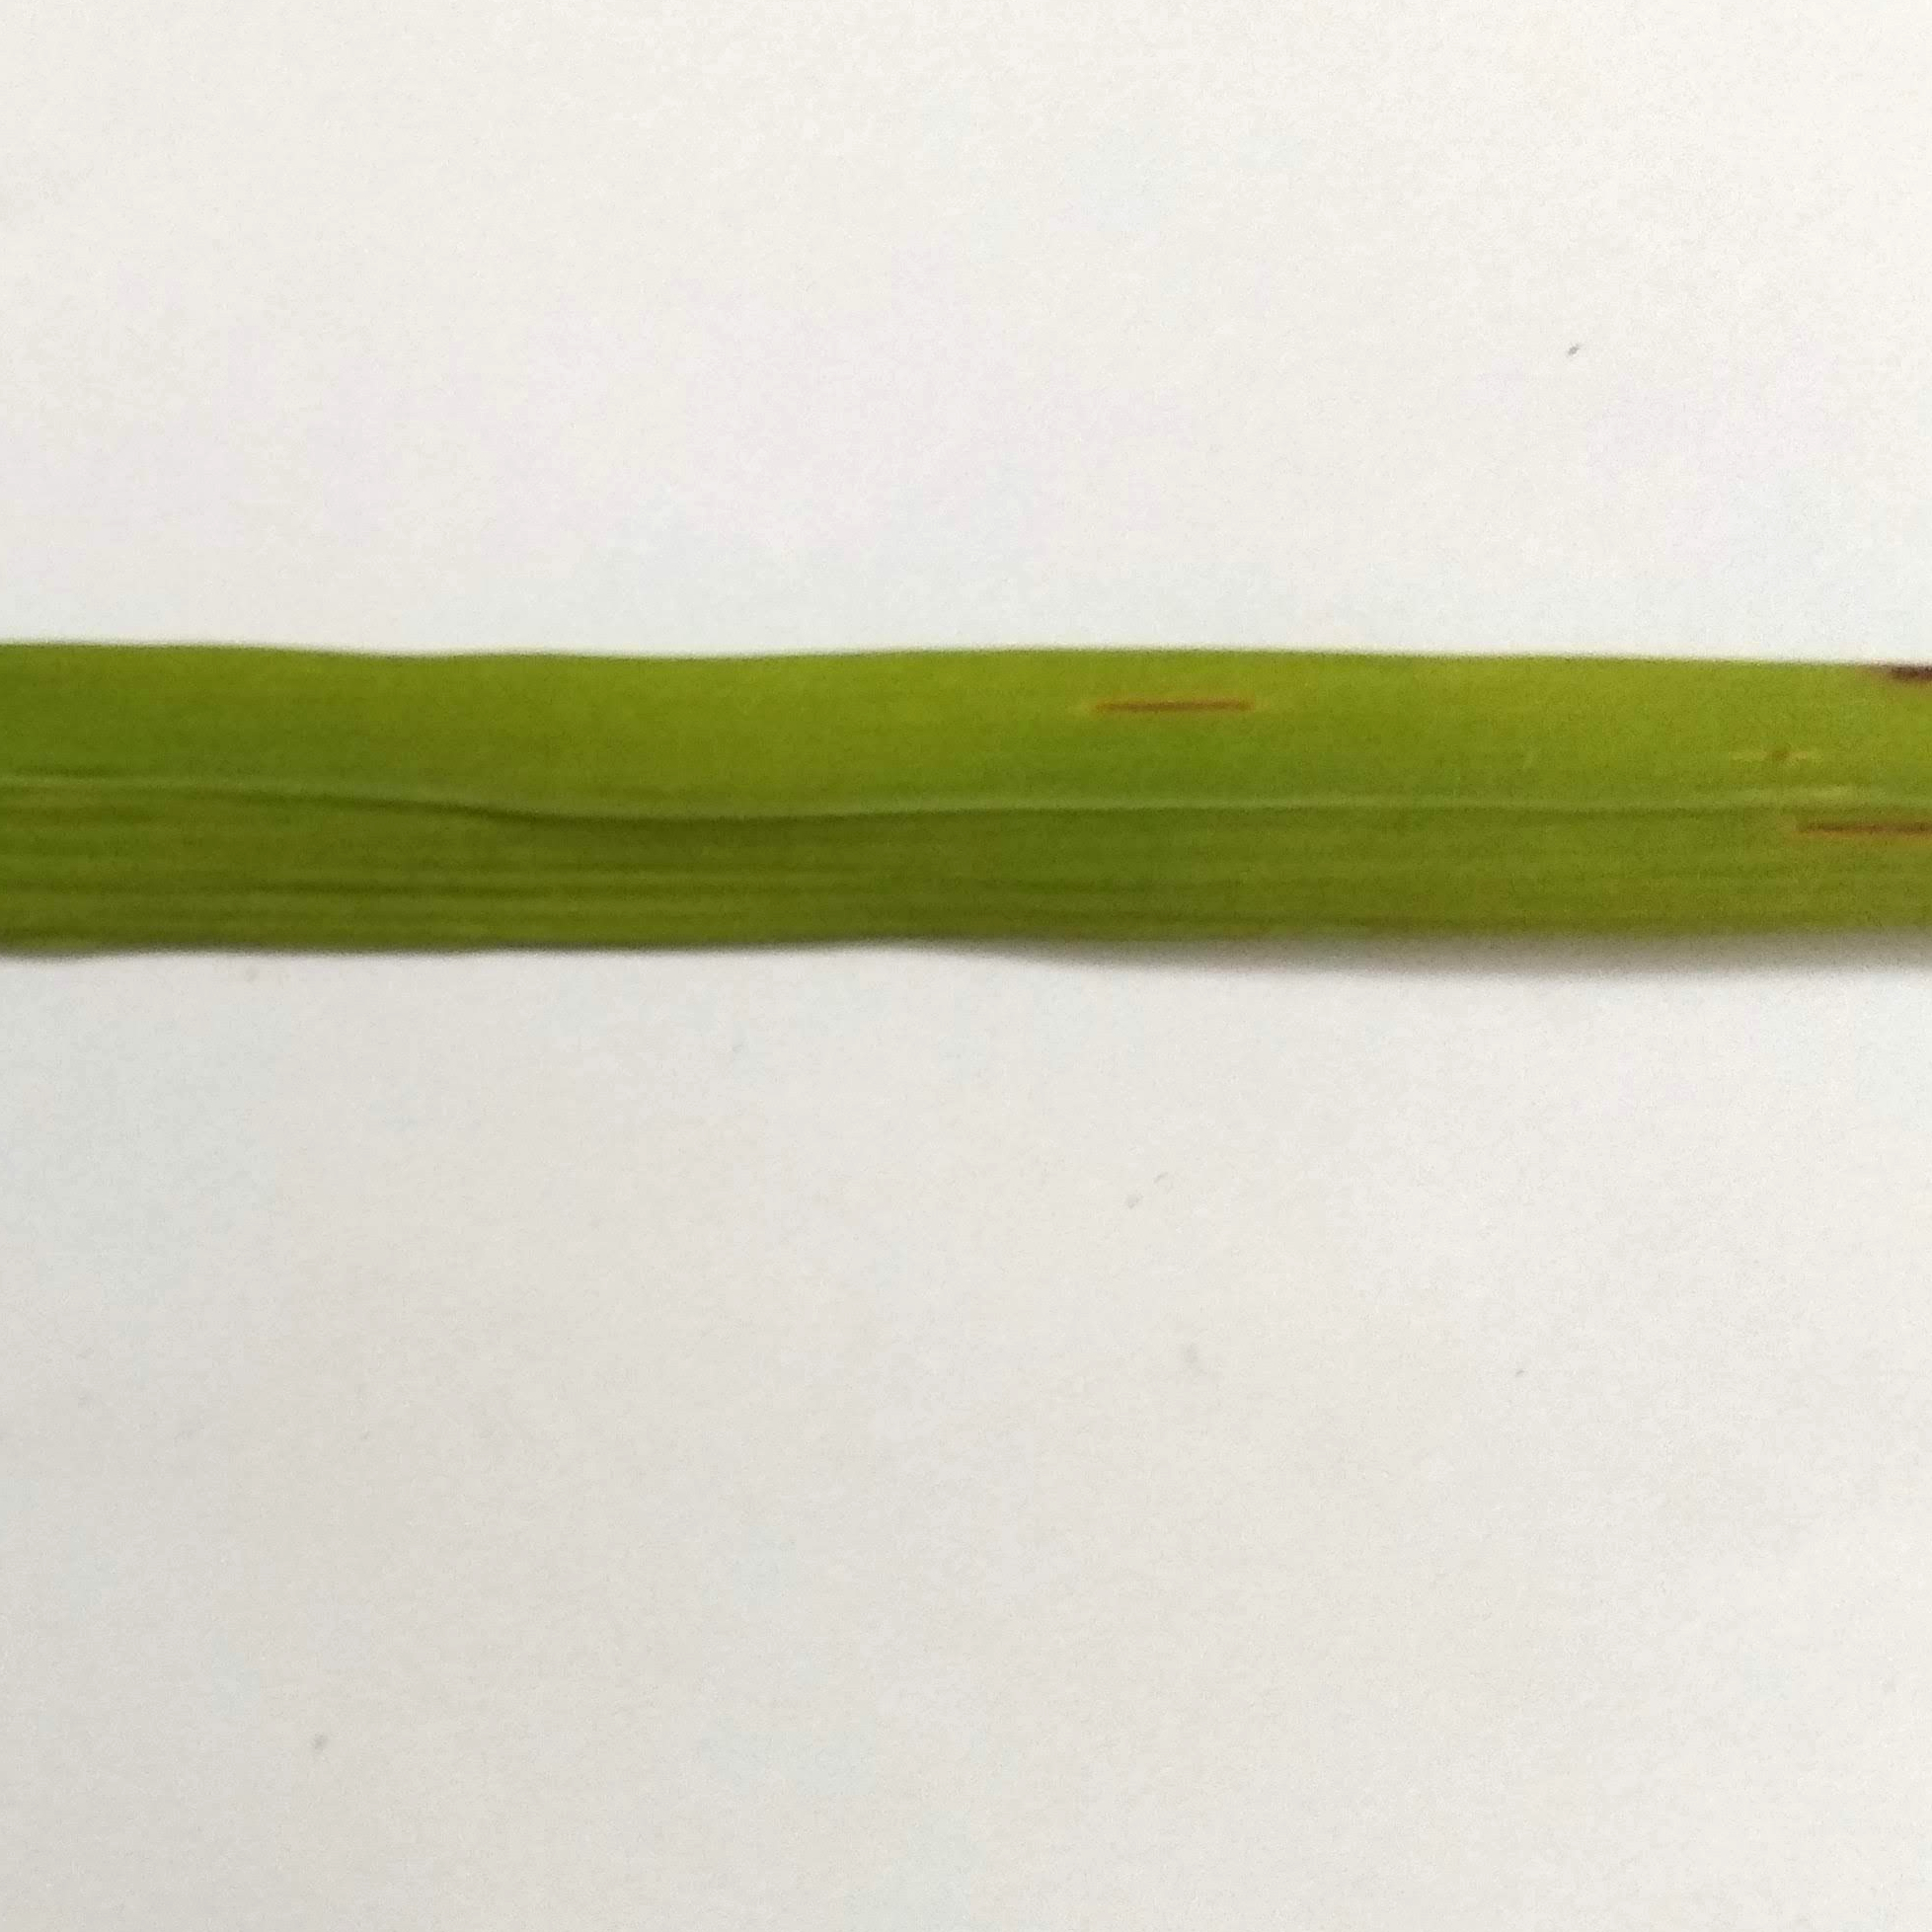brown spot: (1070, 671, 1277, 741), (1785, 794, 1932, 855), (1858, 646, 1932, 694)
